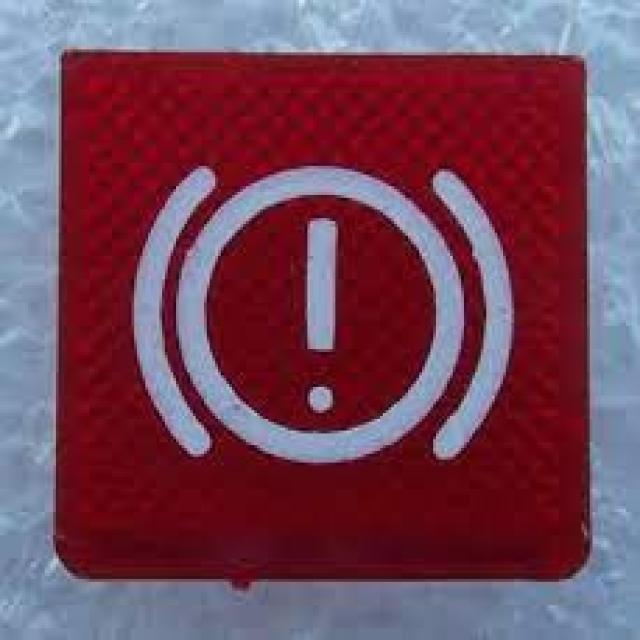kontrolka: (125, 161, 529, 467)
